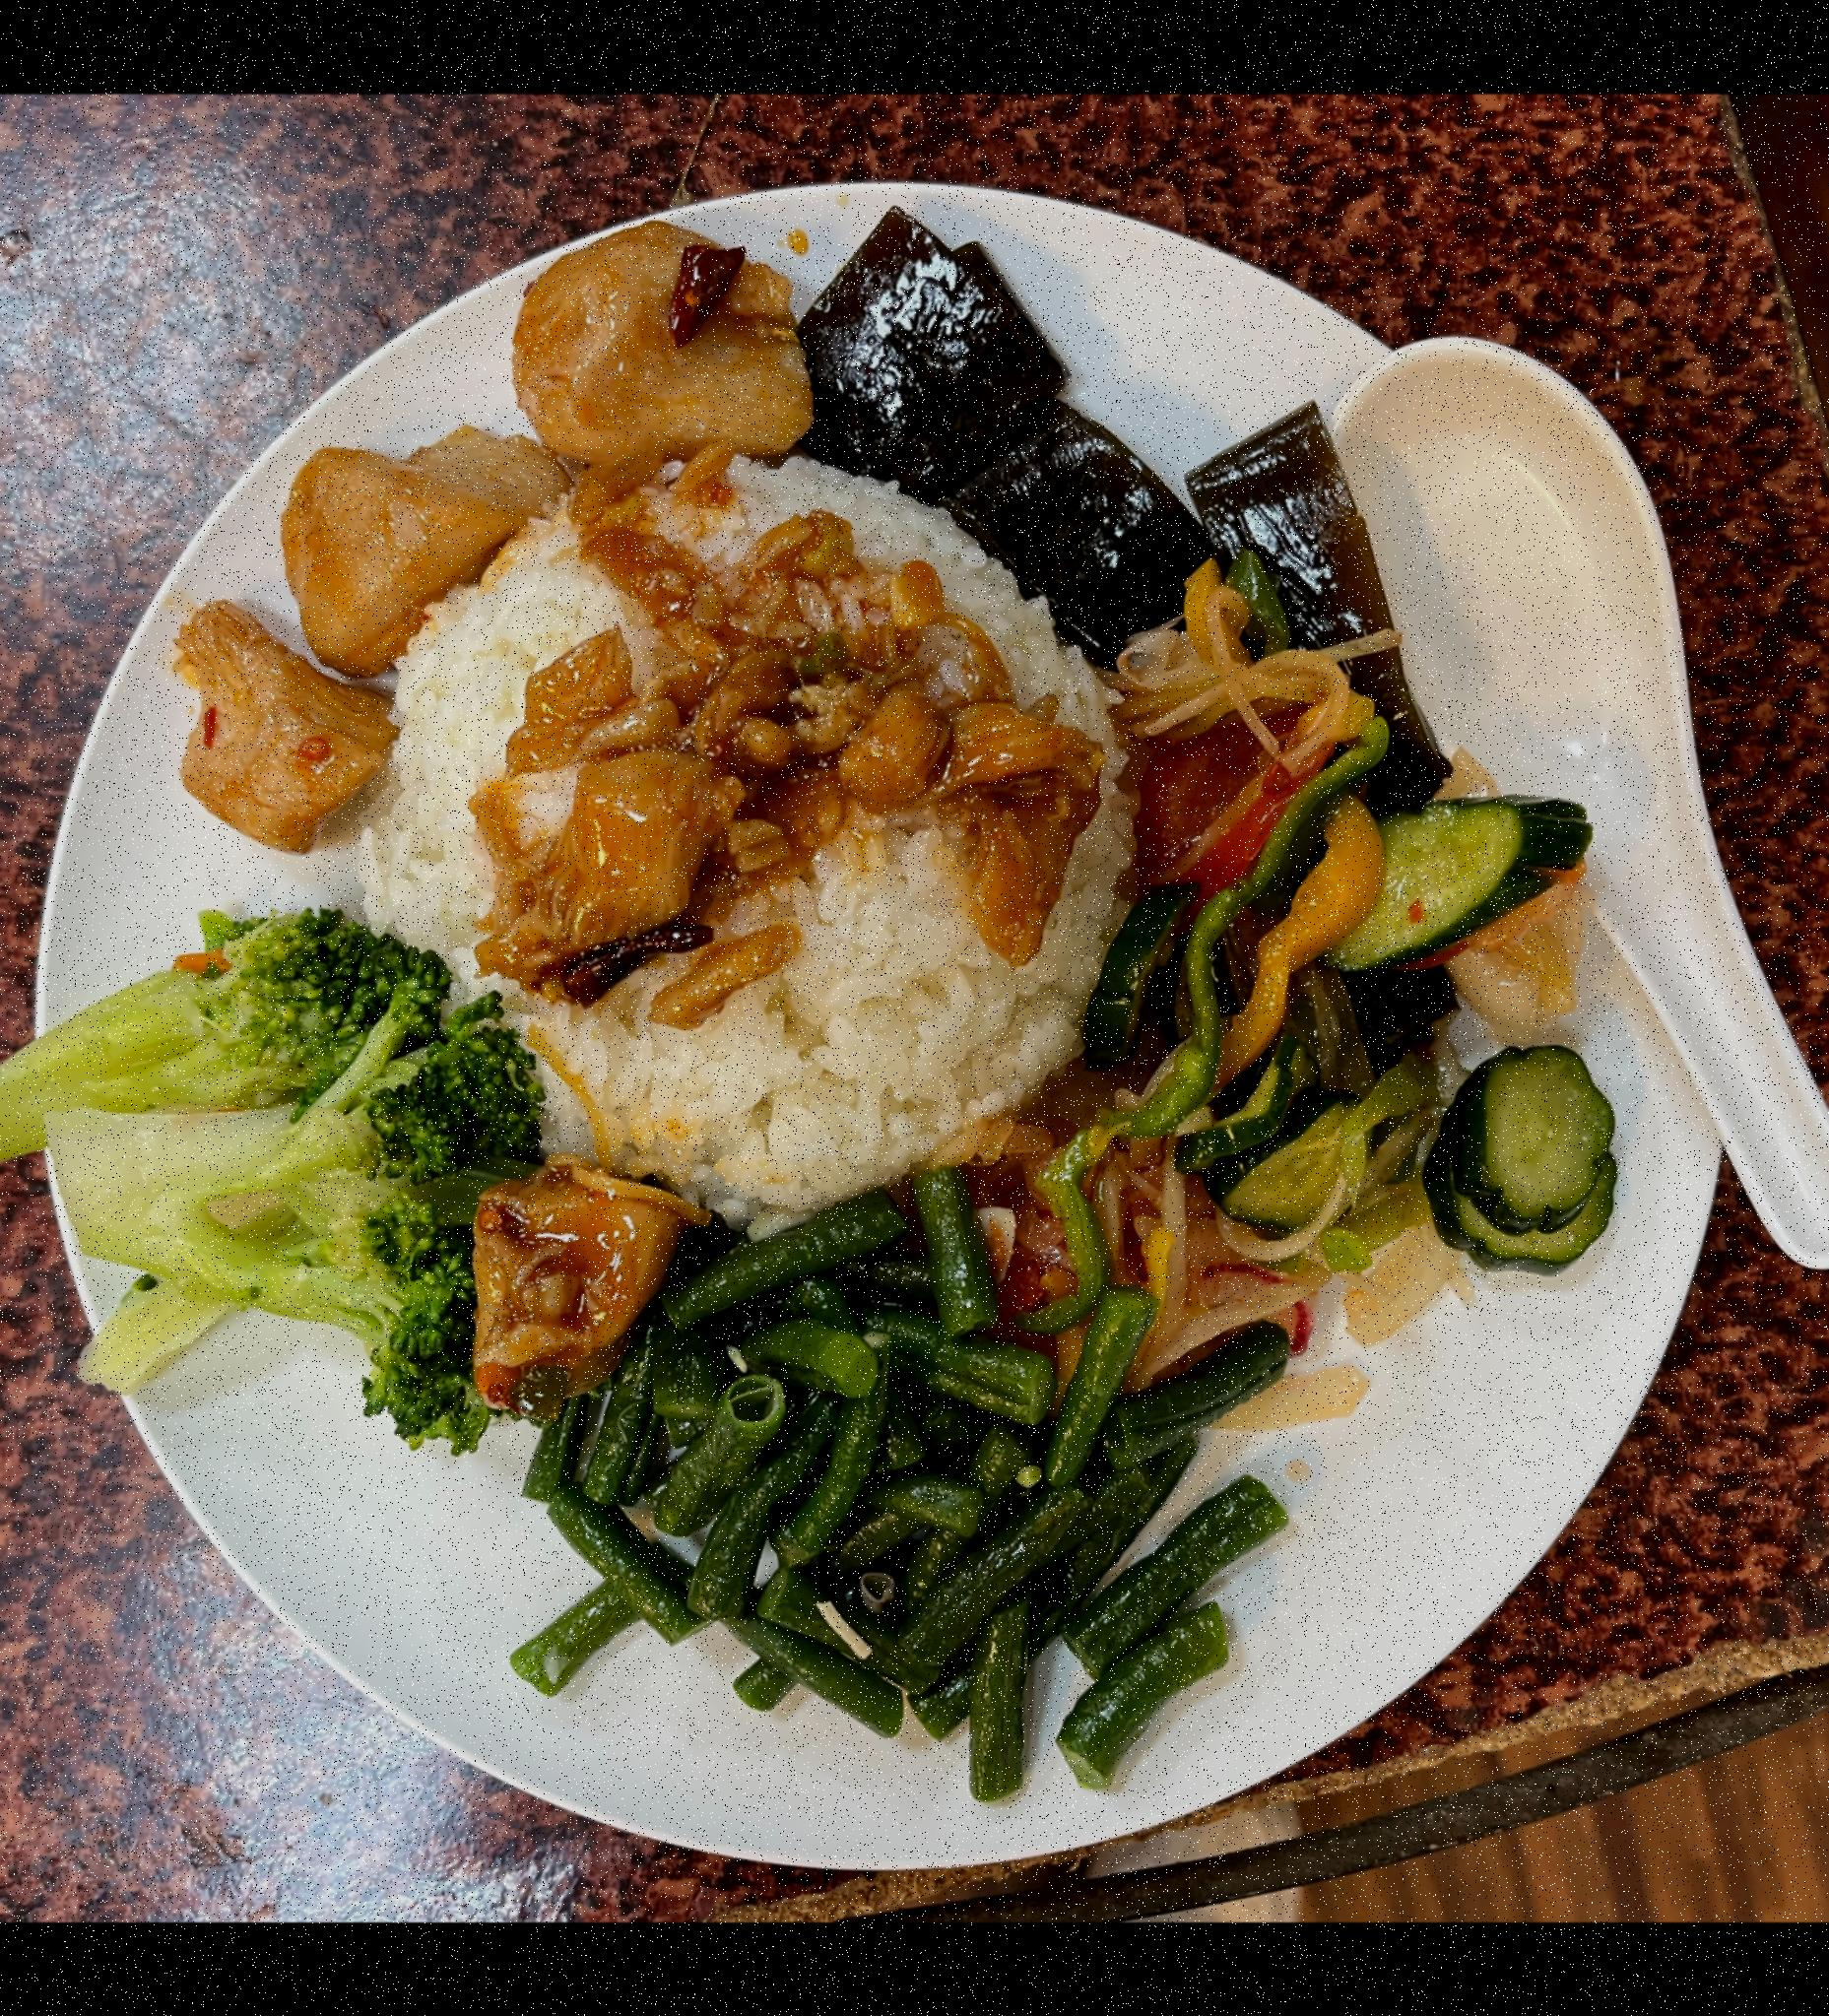plate: (0, 125, 1745, 1884)
side dish: (501, 1224, 1223, 1788), (1070, 643, 1599, 1352), (778, 241, 1455, 762), (0, 934, 525, 1421)
spicy chicken: (156, 202, 821, 845)
white rice: (387, 483, 1110, 1208)
